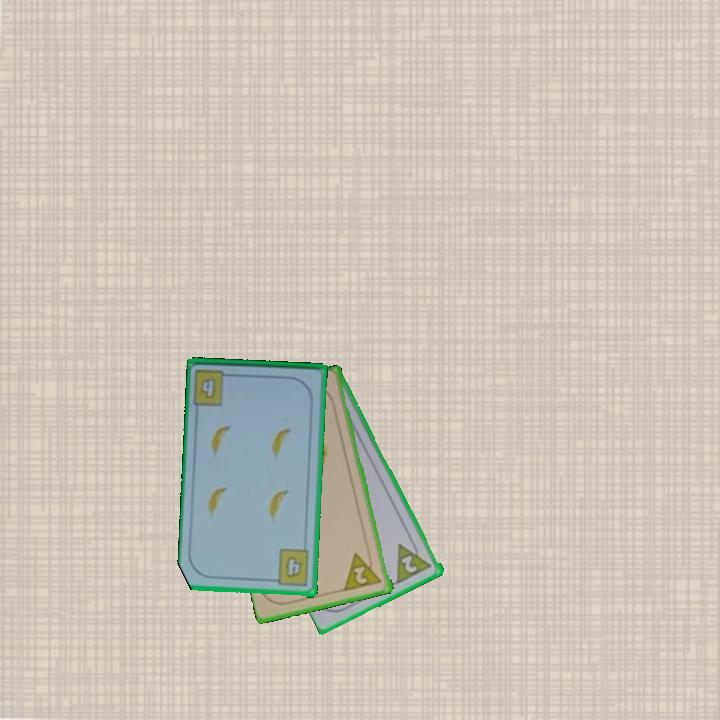2p: (342, 547, 385, 594), (398, 552, 421, 576)
4b: (190, 366, 236, 408), (268, 546, 312, 589)
